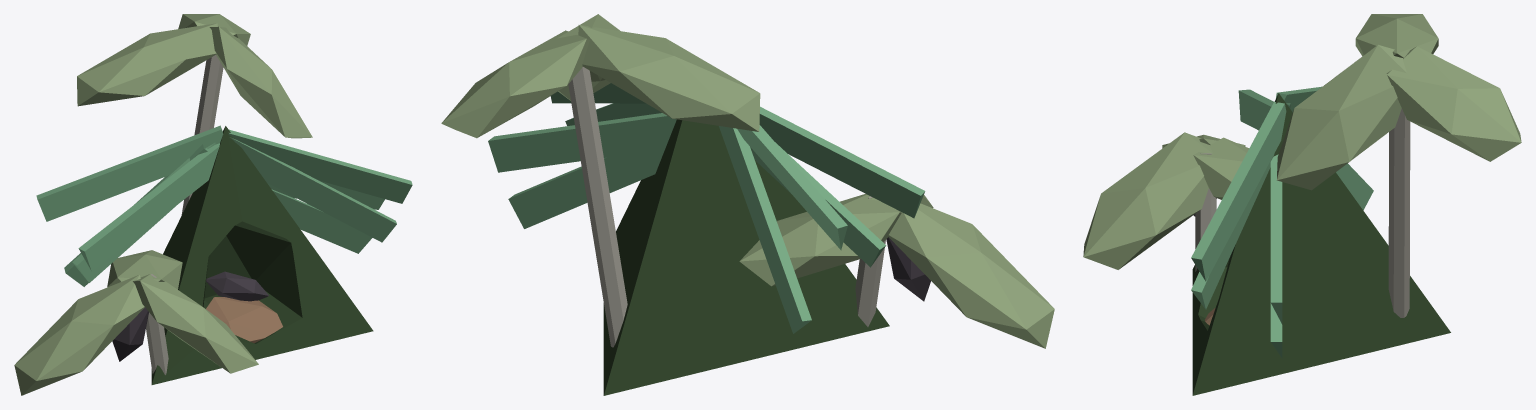
File: 熱帯の巣.fbx
3 renders of one model, left to right at view 1: azimuth 30°, elevation 25°; view 2: azimuth 150°, elevation 25°; view 3: azimuth 270°, elevation 25°, orthographic. The views are drawn at different scales.
Visible parts, largest first — view 1: 円錐, 立方体.003, ICO球.001, ICO球.004, 円柱, ICO球.007, ICO球.003; view 2: 円錐, 立方体.003, ICO球.004, ICO球.001, 円柱, ICO球.007; view 3: 円錐, ICO球.004, ICO球.001, 立方体.003, 円柱.
Boxes of the visible parts, left/top/right/bottom form: 円錐: left=151, top=126, right=373, bottom=384; 立方体.003: left=36, top=125, right=412, bottom=286; ICO球.001: left=14, top=250, right=258, bottom=395; ICO球.004: left=77, top=14, right=312, bottom=138; 円柱: left=146, top=55, right=223, bottom=374; ICO球.007: left=112, top=271, right=268, bottom=361; ICO球.003: left=206, top=297, right=282, bottom=343; 円錐: left=603, top=119, right=889, bottom=395; 立方体.003: left=488, top=83, right=925, bottom=333; ICO球.004: left=441, top=14, right=760, bottom=138; ICO球.001: left=739, top=193, right=1054, bottom=348; 円柱: left=568, top=67, right=885, bottom=347; ICO球.007: left=886, top=237, right=930, bottom=301; 円錐: left=1192, top=93, right=1450, bottom=395; ICO球.004: left=1277, top=14, right=1521, bottom=190; ICO球.001: left=1083, top=132, right=1248, bottom=269; 立方体.003: left=1191, top=86, right=1373, bottom=358; 円柱: left=1195, top=108, right=1410, bottom=317.
Bounding box in the file's own units: 467 × 296 × 381.
